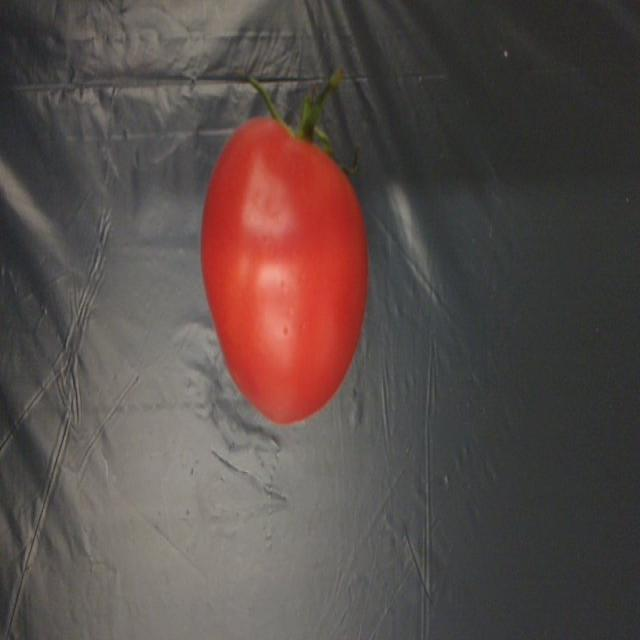kirmizi: (176, 101, 380, 423)
